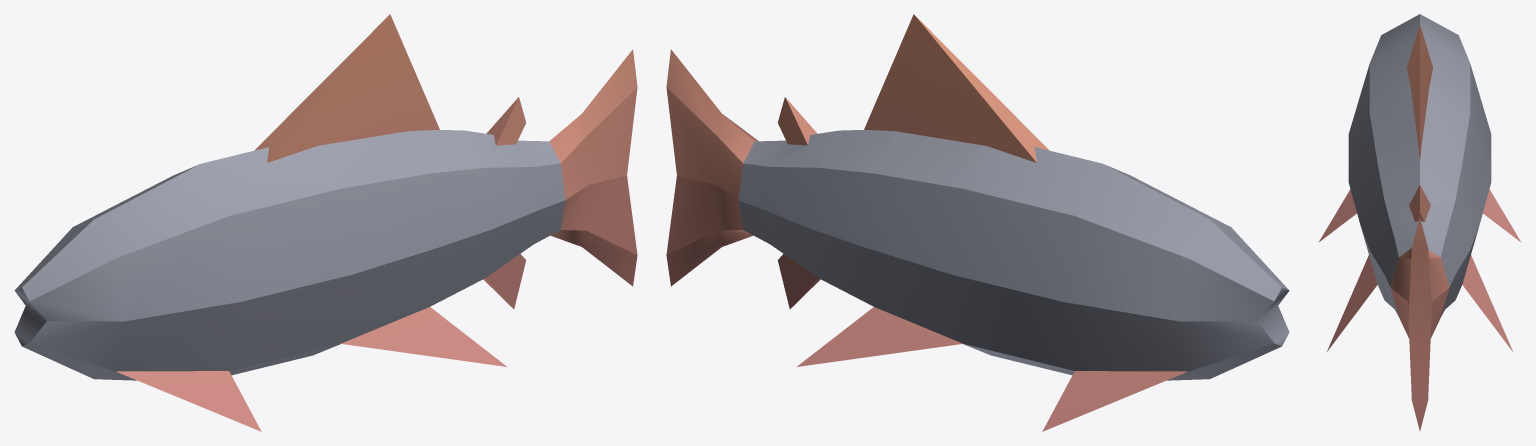
File: fish-large.glb
3 views of the same model, side by side, from view 1: azimuth 30°, elevation 25°; view 2: azimuth 150°, elevation 25°; view 3: azimuth 270°, elevation 25° (orthographic). The views are drawn at different scales.
Visible parts, largest first — view 1: fish-large; view 2: fish-large; view 3: fish-large.
Part boxes in pixels (left/top/right/bottom): fish-large: left=14, top=14, right=637, bottom=431; fish-large: left=666, top=14, right=1289, bottom=431; fish-large: left=1318, top=14, right=1521, bottom=430.
Bounding box in the file's own units: 0.3073 × 0.1595 × 0.0979.
